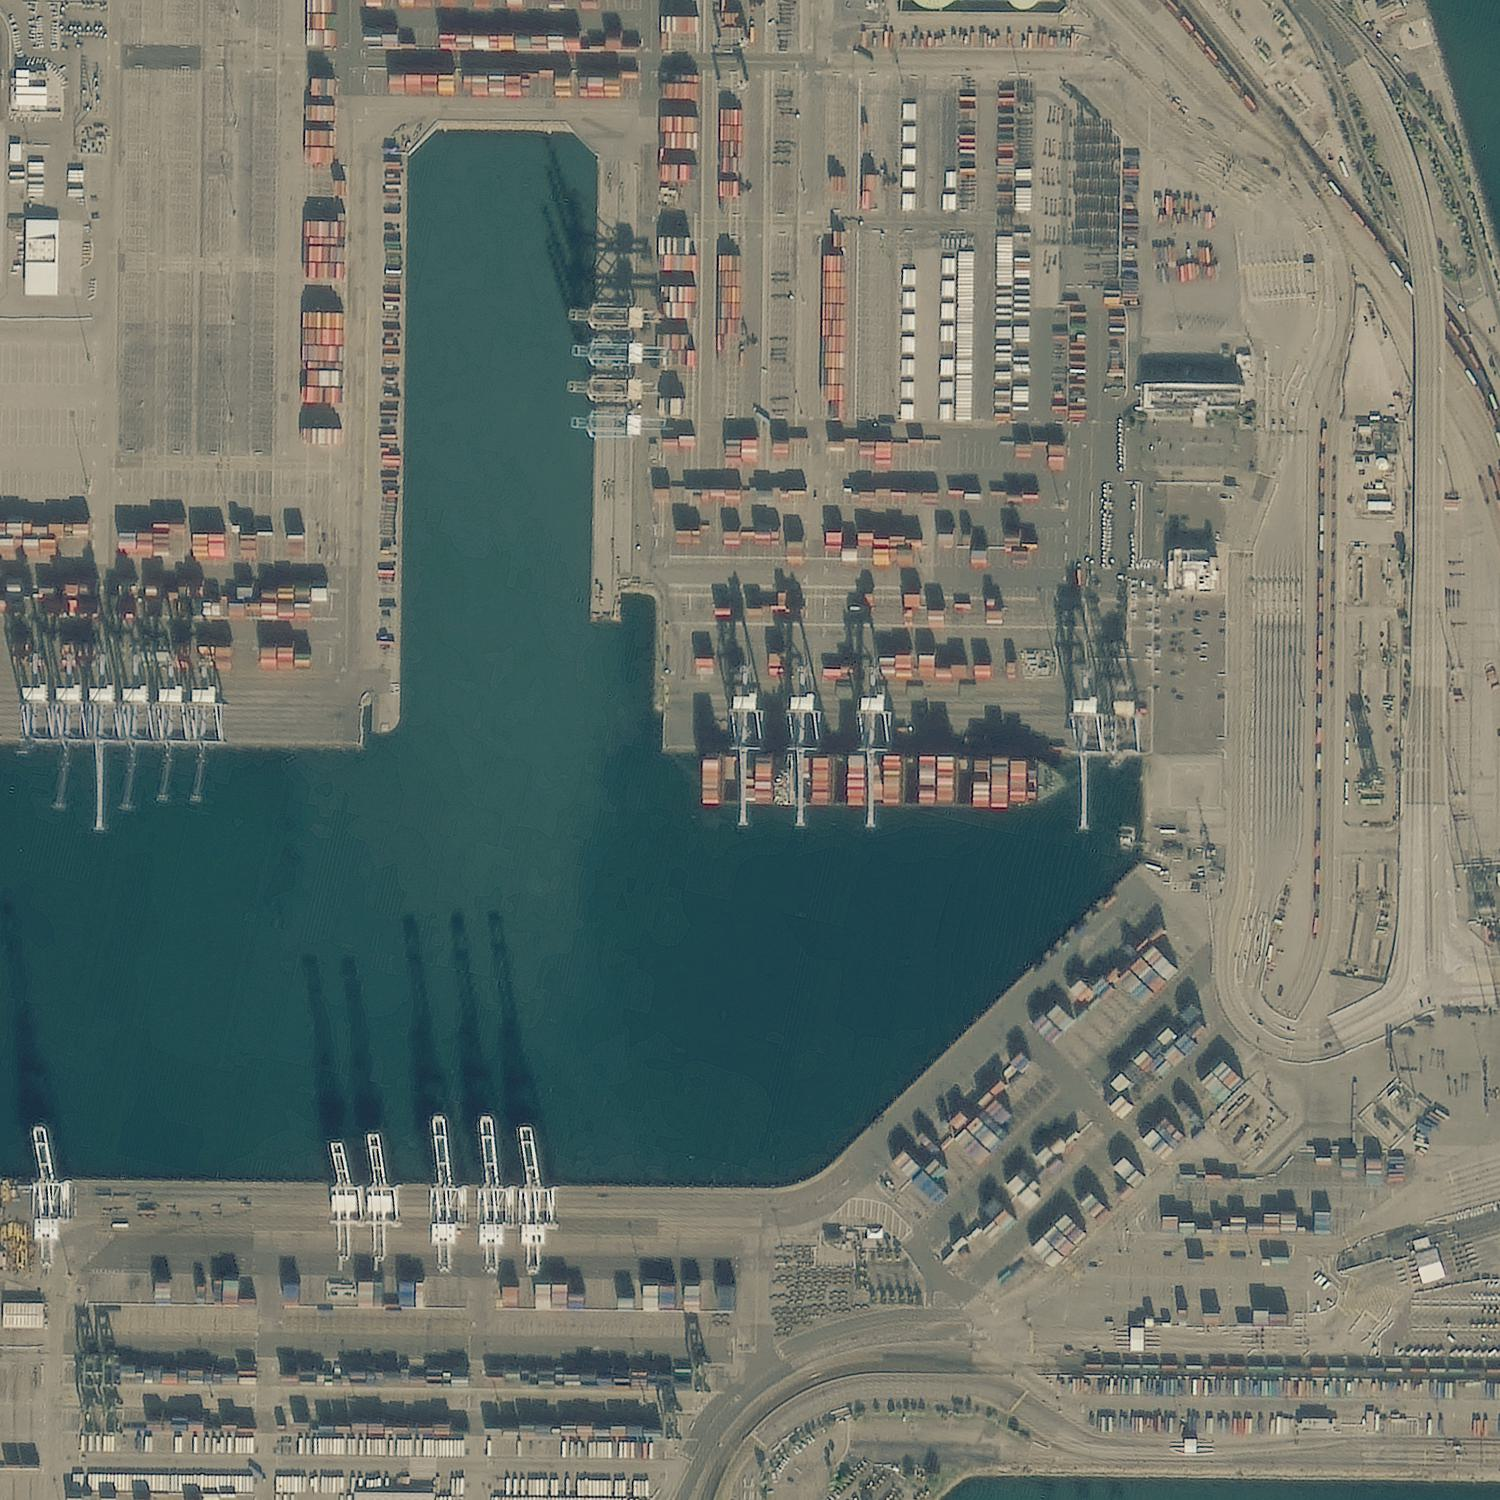A17: (227, 526, 327, 628), (349, 95, 451, 194), (621, 258, 722, 353), (165, 229, 262, 327)
